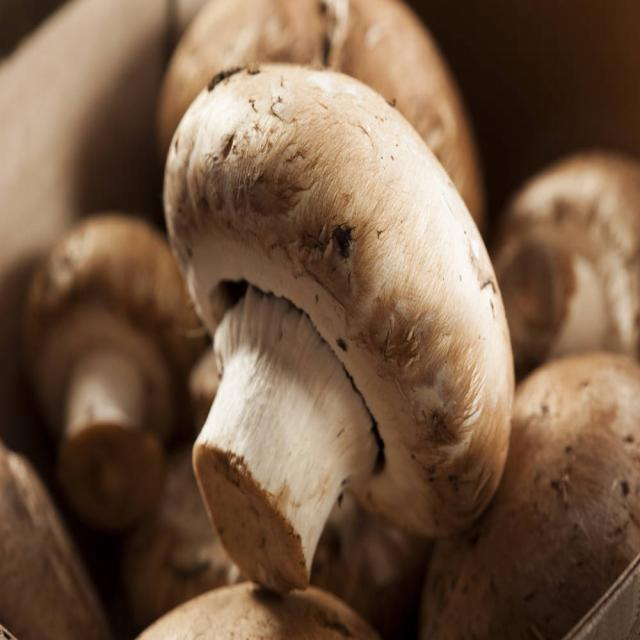Agaricus bisporus: (166, 58, 513, 588), (33, 212, 199, 517)
